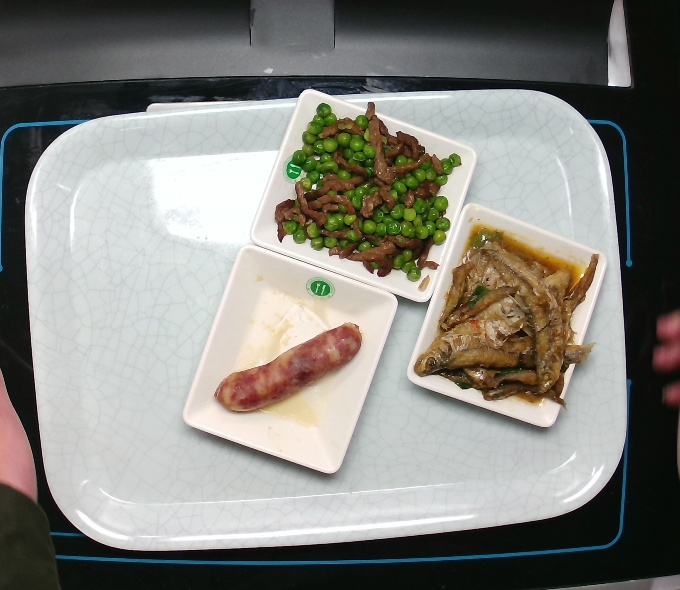wcq-CanDouNiuRou: (265, 97, 464, 286)
wcq-XiangChang: (214, 317, 363, 414)
wcq-XiaoJiYu: (417, 224, 608, 408)
